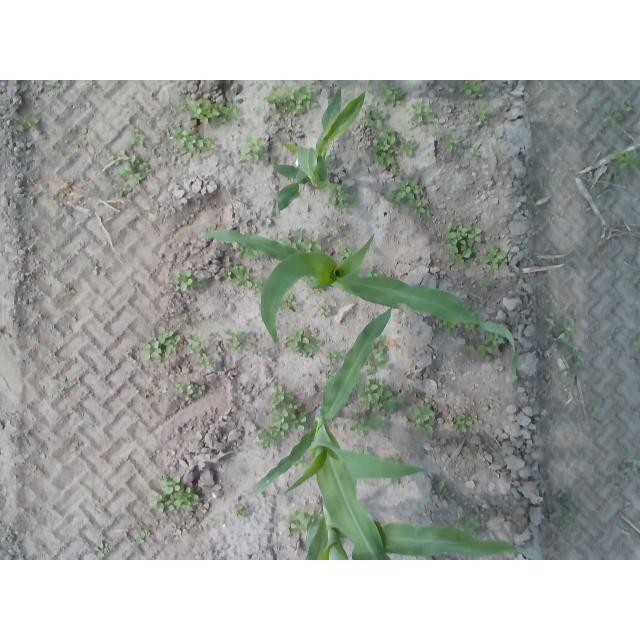Maize: (197, 228, 518, 383), (252, 305, 423, 560), (303, 500, 542, 561), (274, 86, 367, 213)
Weeds: (258, 386, 307, 450), (150, 477, 198, 516), (444, 224, 484, 268), (389, 179, 428, 216), (267, 88, 320, 113), (372, 132, 401, 176), (365, 383, 404, 412), (186, 102, 236, 123), (172, 127, 204, 158), (284, 506, 314, 538), (290, 228, 331, 248), (237, 135, 264, 163), (411, 402, 437, 431), (329, 183, 352, 214), (474, 337, 502, 362), (352, 417, 384, 437), (614, 149, 638, 172), (382, 83, 405, 106), (363, 105, 386, 128), (484, 245, 504, 271), (174, 270, 195, 294), (289, 330, 311, 351), (142, 339, 162, 362), (175, 383, 205, 398), (122, 163, 142, 185), (456, 414, 476, 436), (552, 320, 572, 341), (413, 105, 435, 124), (400, 137, 419, 159), (374, 346, 390, 371), (237, 264, 253, 288), (157, 330, 179, 346), (108, 152, 131, 167), (223, 332, 241, 351), (300, 340, 320, 357), (189, 334, 209, 351), (231, 502, 250, 519), (602, 110, 620, 127), (445, 137, 461, 155), (21, 115, 40, 130), (73, 130, 90, 146), (461, 82, 479, 97), (463, 516, 481, 531), (55, 377, 73, 391), (243, 330, 257, 348), (133, 126, 146, 143), (95, 541, 110, 555), (439, 323, 457, 334), (238, 247, 256, 258), (249, 277, 261, 293), (624, 101, 636, 116), (194, 353, 210, 364), (118, 184, 131, 197), (140, 157, 152, 171), (223, 268, 234, 283), (575, 351, 585, 367), (476, 107, 487, 121), (179, 311, 190, 325), (70, 440, 81, 454), (205, 137, 215, 152), (136, 530, 148, 542), (286, 296, 297, 309), (319, 305, 332, 316), (62, 286, 76, 296), (467, 149, 481, 159), (339, 246, 350, 258), (590, 405, 601, 417), (564, 507, 573, 521), (465, 325, 477, 335), (479, 281, 490, 291), (259, 348, 270, 358), (365, 268, 377, 277), (327, 353, 337, 363), (124, 350, 134, 359), (152, 205, 161, 215)
